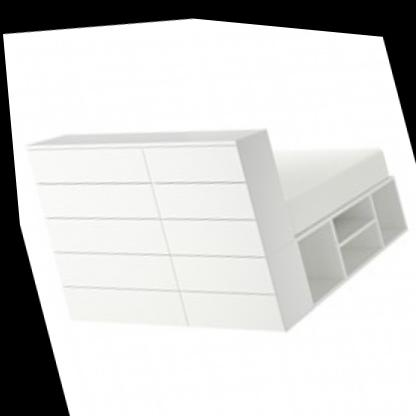Bed: (1, 18, 416, 392)
